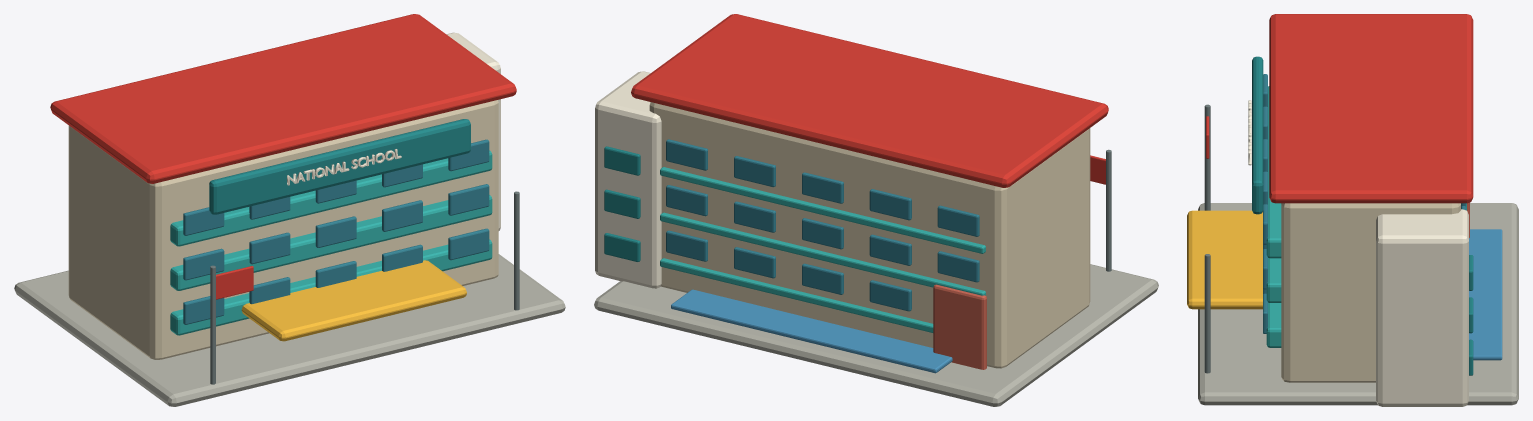
File: national-school-v2.glb
3 views of the same model, side by side, from view 1: azimuth 30°, elevation 25°; view 2: azimuth 150°, elevation 25°; view 3: azimuth 270°, elevation 25° (orthographic). The views are drawn at different scales.
Visible parts, largest first — view 1: NATIONAL SCHOOL SCHOOL · Chalk; view 2: NATIONAL SCHOOL SCHOOL · Chalk; view 3: NATIONAL SCHOOL SCHOOL · Chalk.
Boxes of the visible parts, x1,y1,x2,y2 form: NATIONAL SCHOOL SCHOOL · Chalk: (14, 14, 565, 406); NATIONAL SCHOOL SCHOOL · Chalk: (594, 14, 1158, 406); NATIONAL SCHOOL SCHOOL · Chalk: (1187, 14, 1518, 406).
Size of the model in its own units: 7.62 by 3.58 by 5.17.
1 material, 1 textured.
